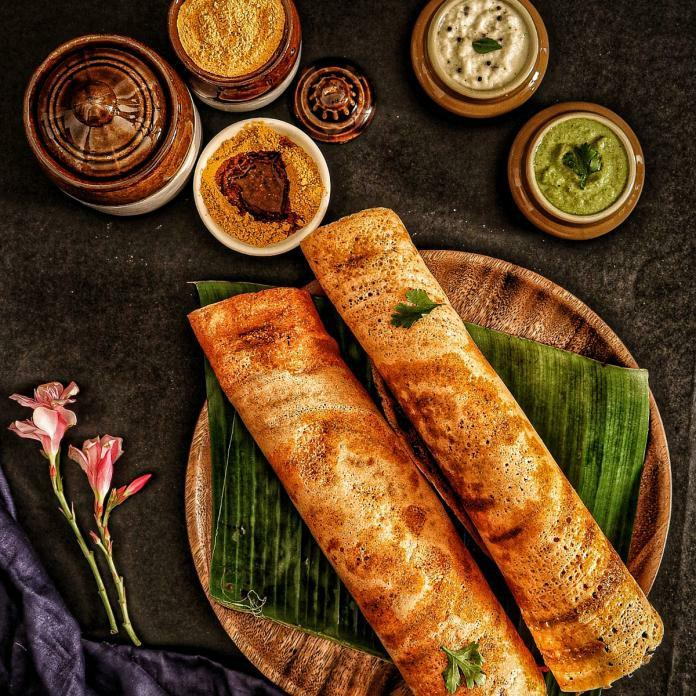CoconutChutney: (432, 0, 530, 92)
Dosa: (302, 207, 667, 693), (187, 286, 546, 696)
GreenChutney: (534, 119, 628, 216)
